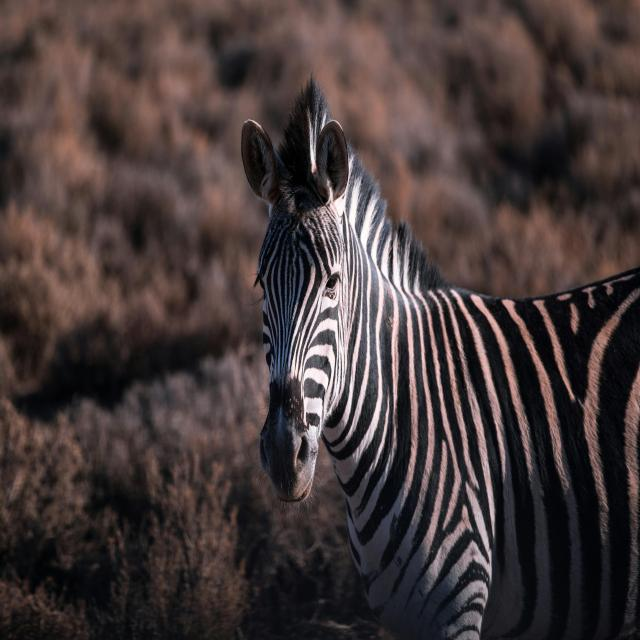Zebra: (241, 74, 640, 640)
